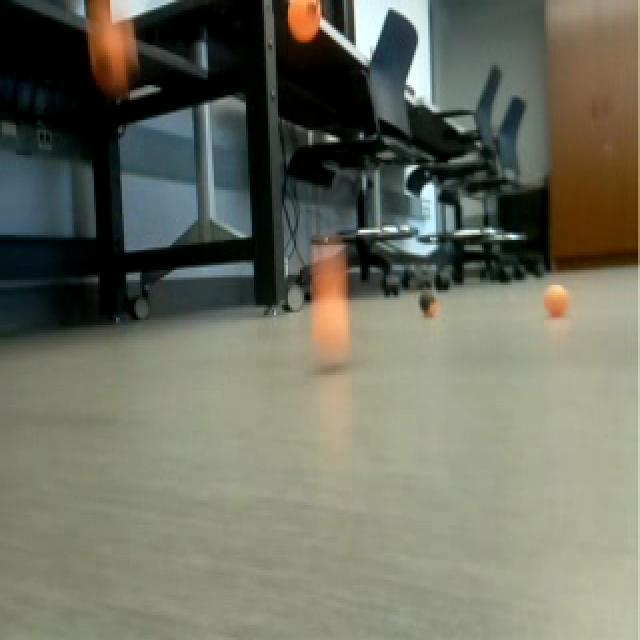oball: (75, 19, 145, 94), (304, 280, 356, 366), (276, 0, 328, 48), (540, 280, 572, 322)
